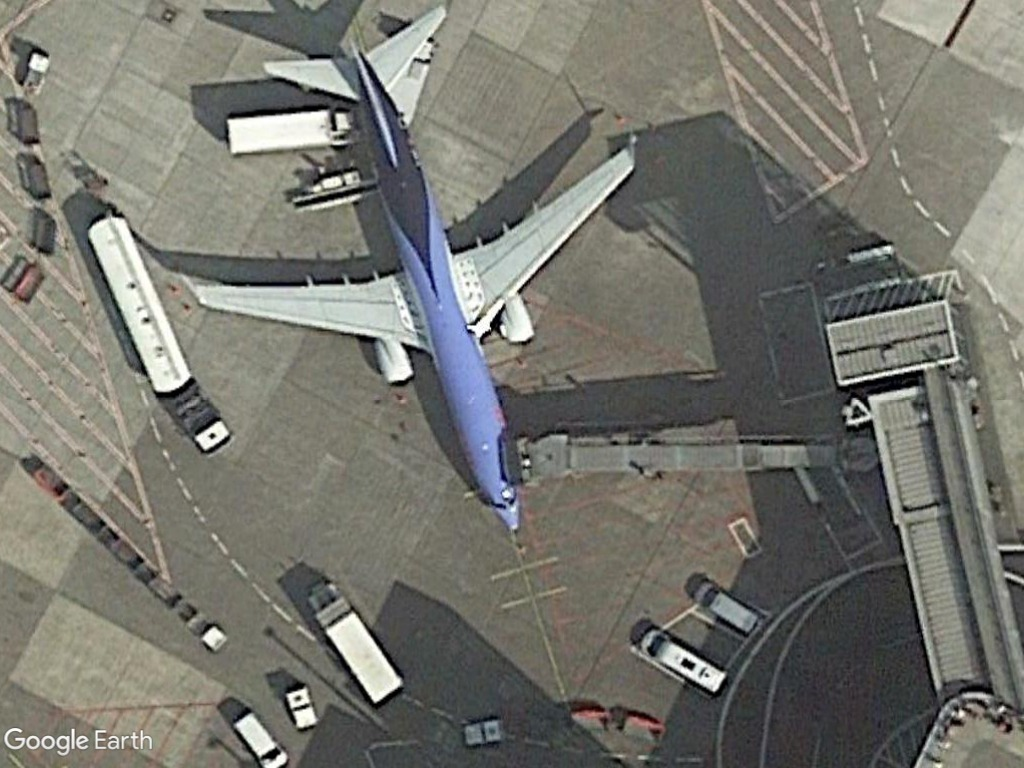airliner: (180, 10, 641, 537)
longvehicle: (79, 209, 194, 407)
truck: (302, 579, 407, 715)
van: (636, 625, 729, 701), (688, 574, 763, 638), (232, 709, 287, 768)
